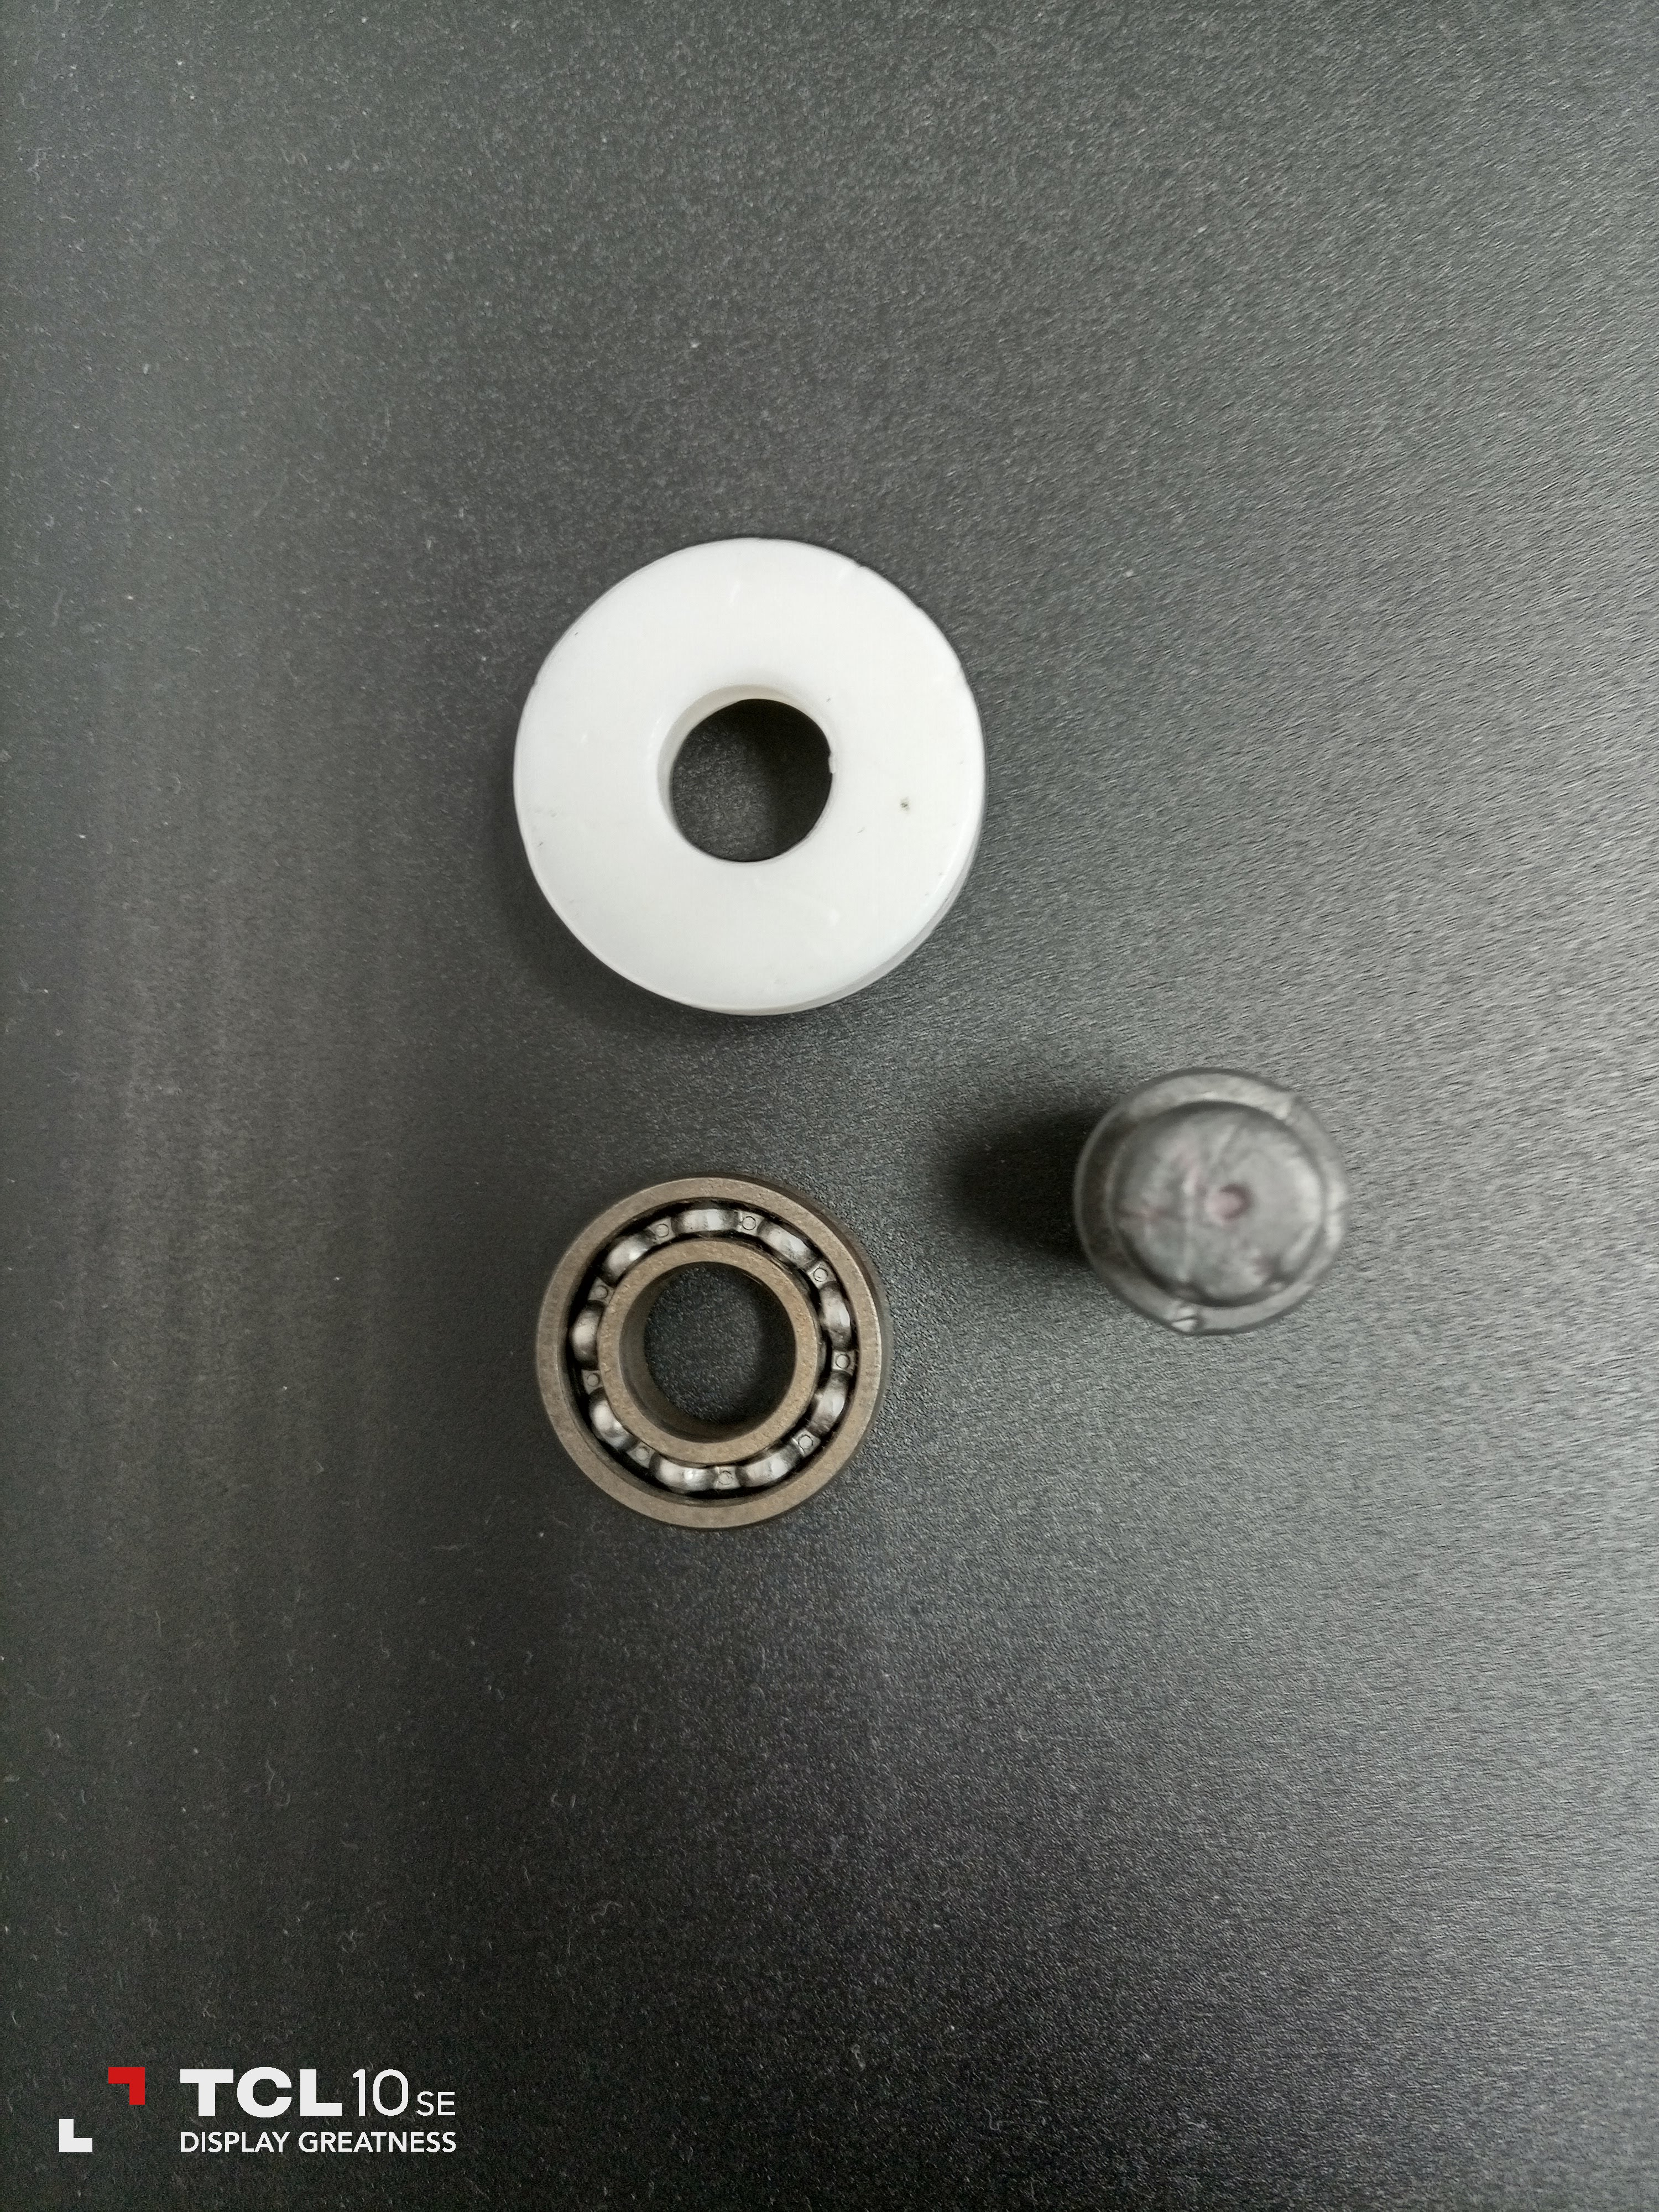Ardatza: (1077, 1066, 1375, 1341)
Roda: (532, 1165, 882, 1529)
Tapa: (505, 535, 969, 1017)
